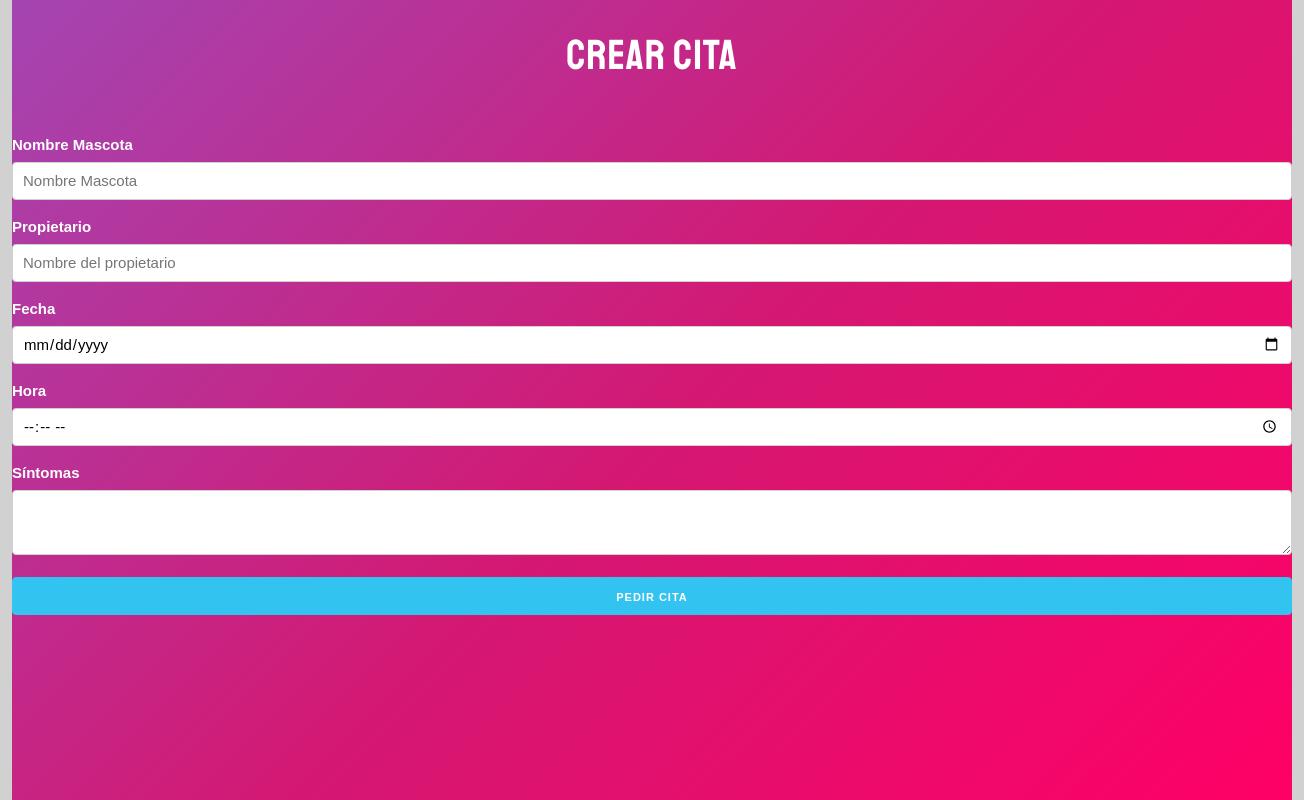
Test case: <Formulario/> Validación de formulario
Note: Click en el boton de submit
What coordinates should you click on to do the following:
click the button with test id "btn-submit"
I would click on:
 (652, 596)
Its box is [12,576,1292,614].
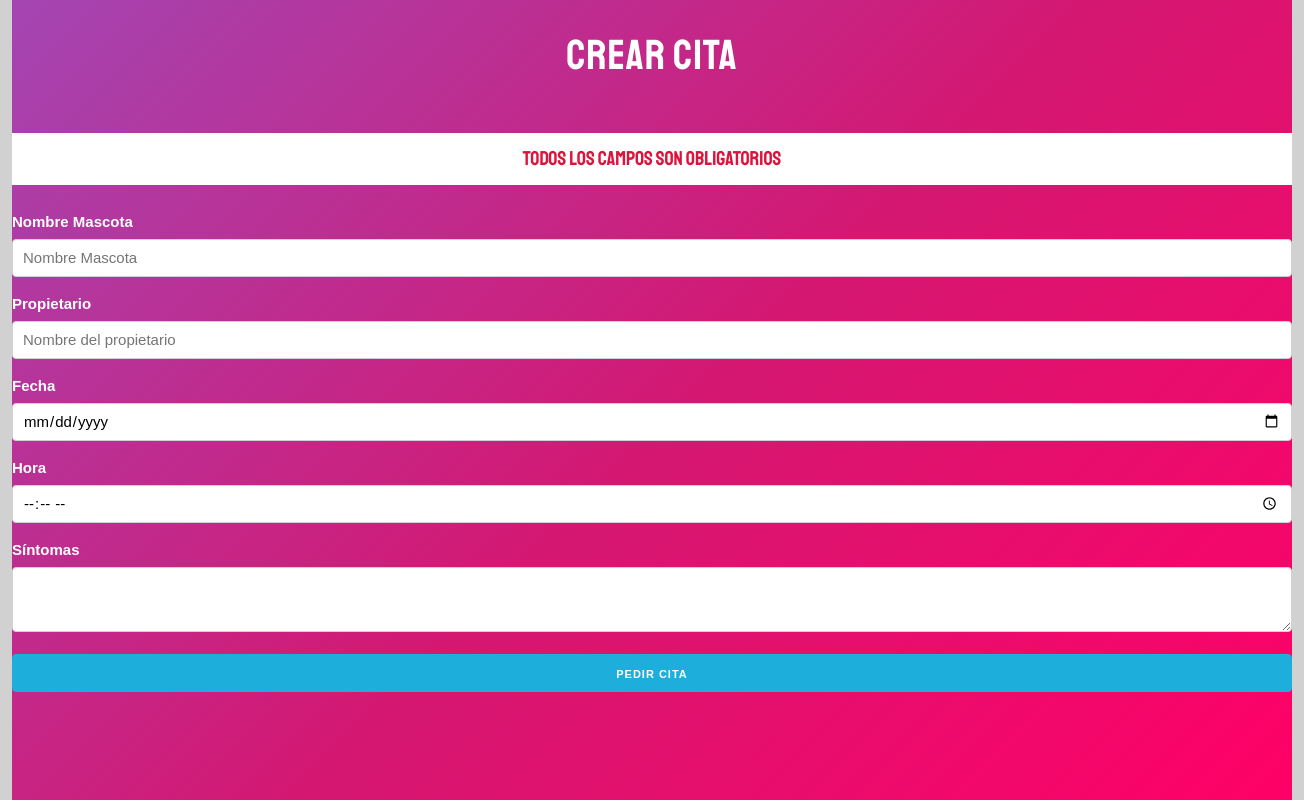
Expected: the text "Todos los campos son obligatorios" is shown, [12,132,1292,184]
Expected: the text with test id "alerta" reads "Todos los campos son obligatorios", [523,146,781,170]
